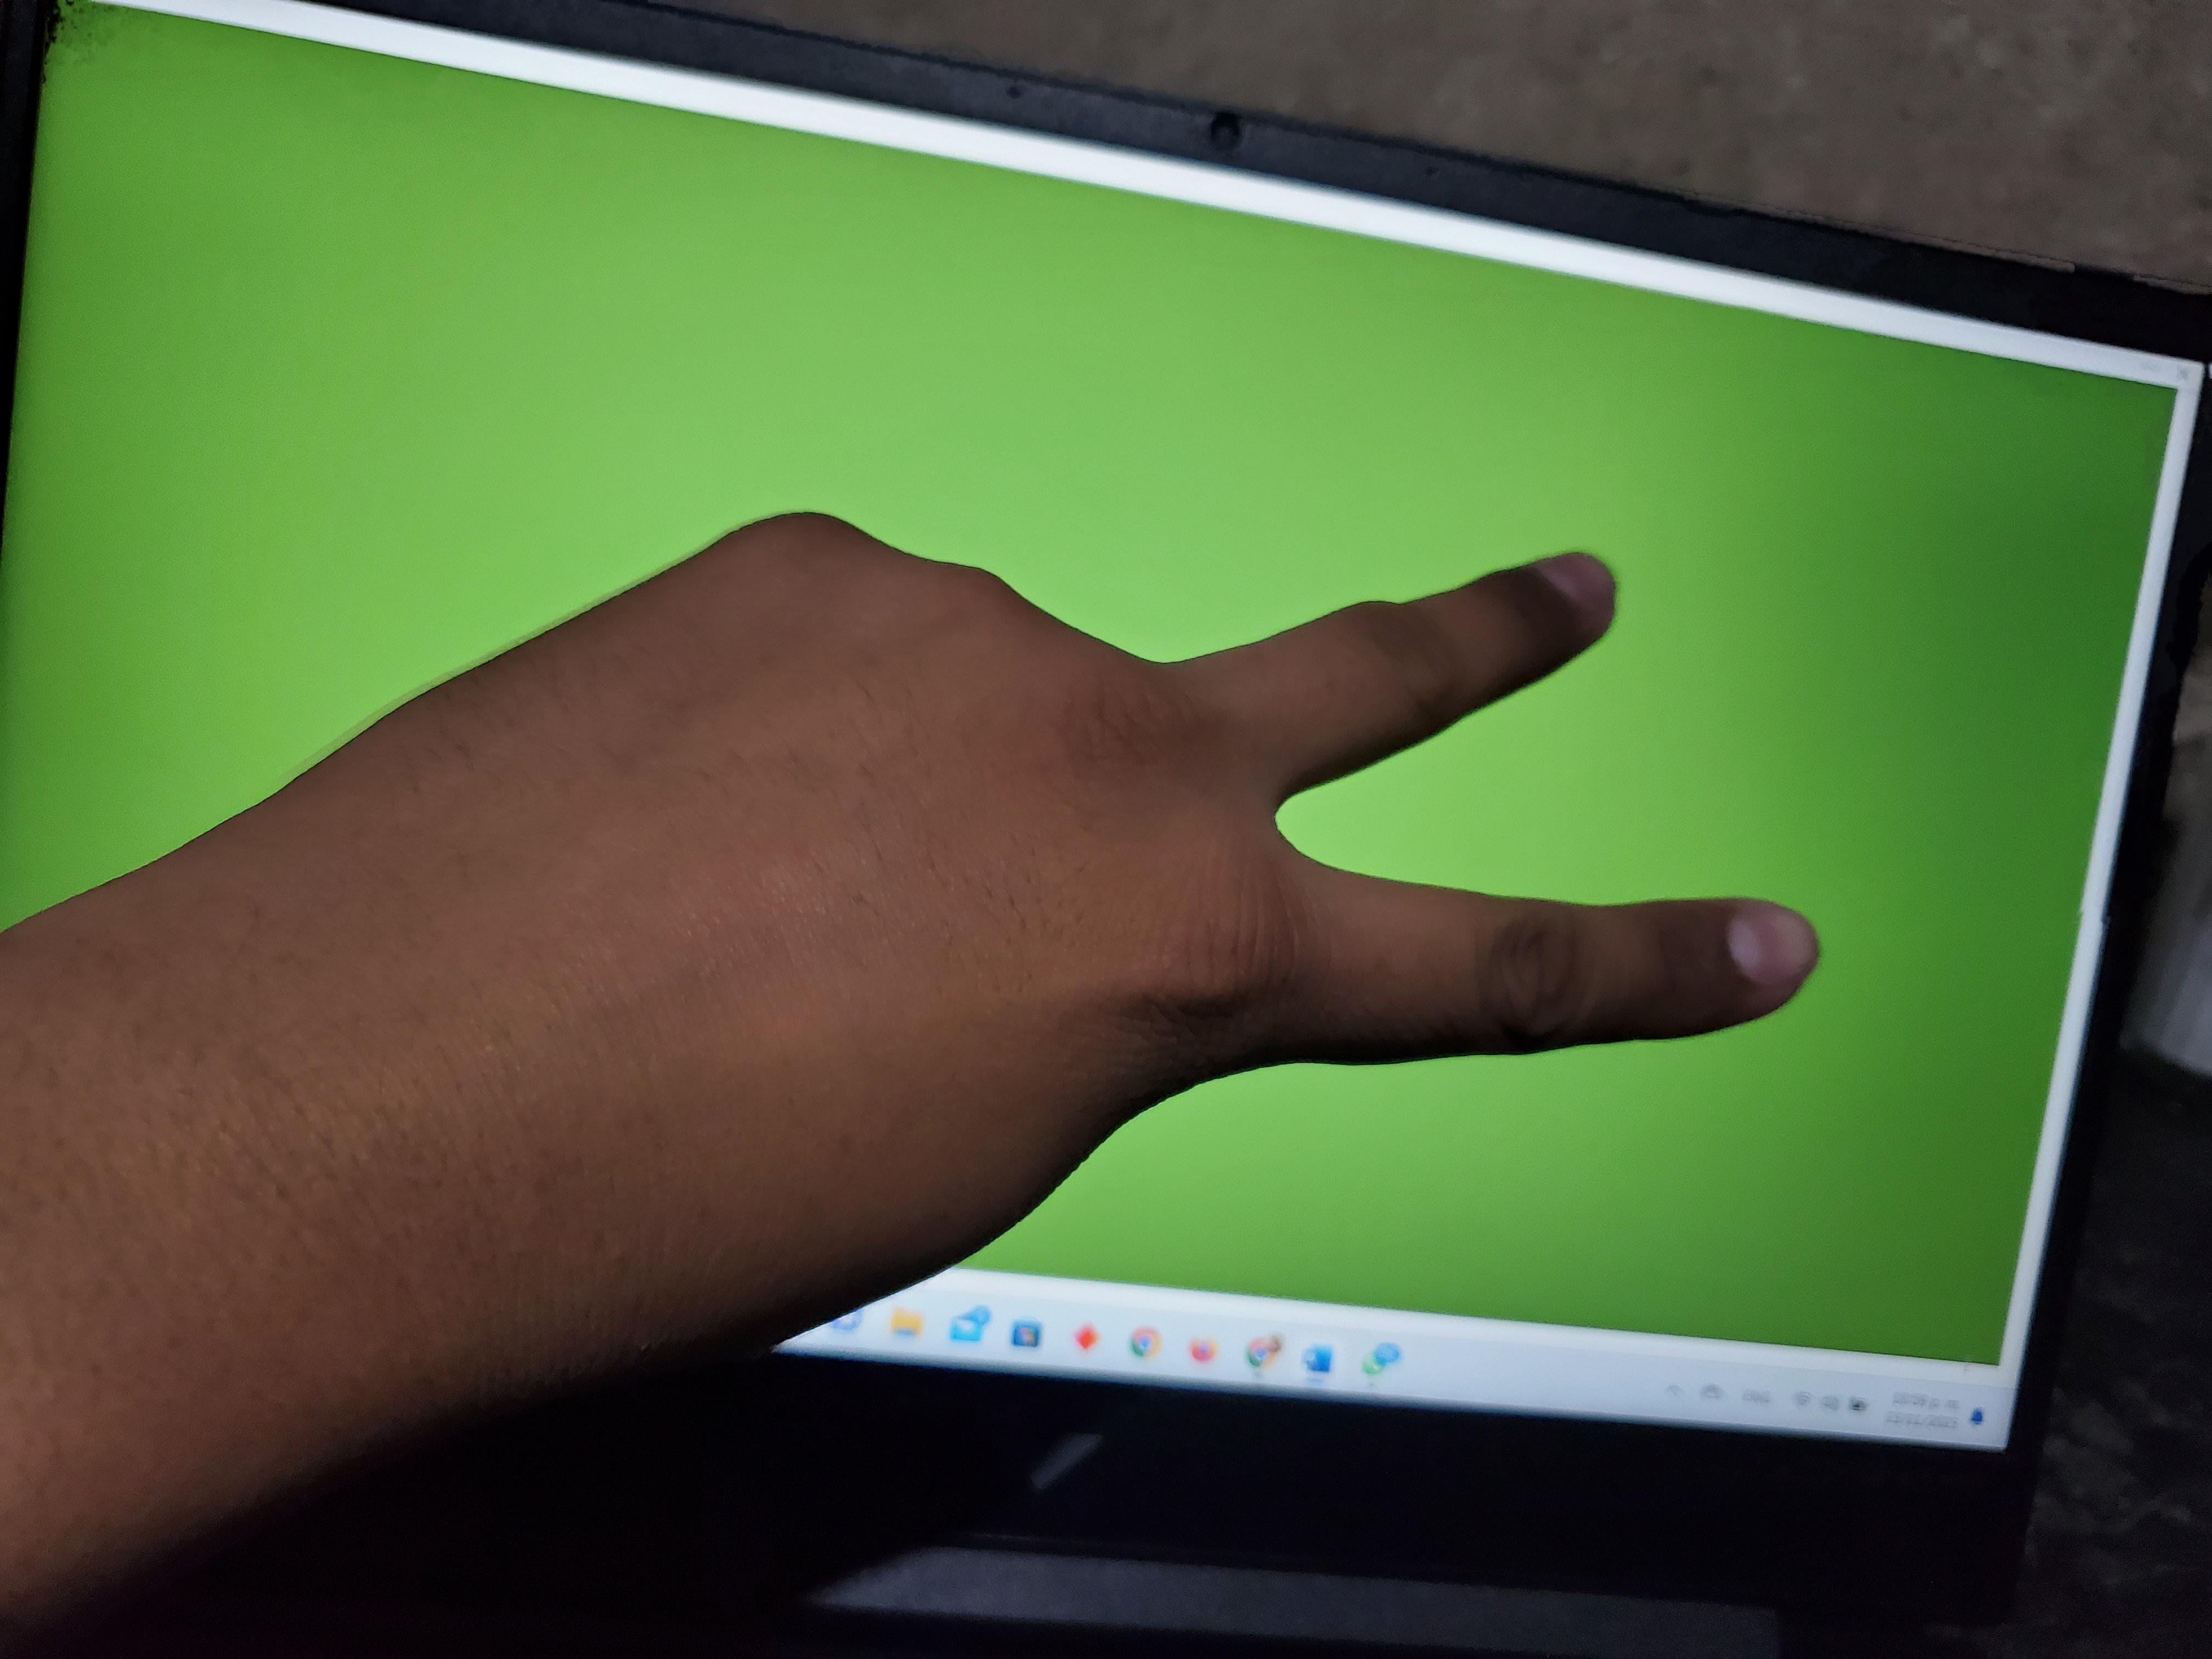Scissor: (127, 112, 1935, 1506)
